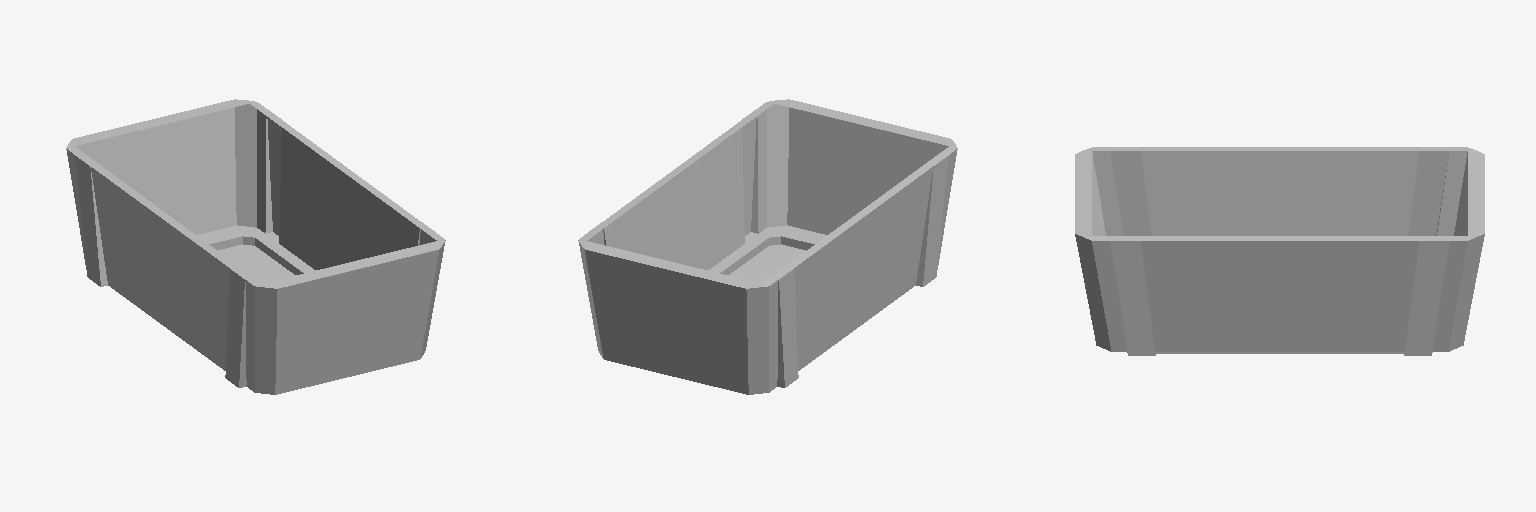
File: powerCellContainer_body.obj
3 renders of one model, left to right at view 1: azimuth 30°, elevation 25°; view 2: azimuth 150°, elevation 25°; view 3: azimuth 270°, elevation 25°, orthographic.
Parts seen in each view (by area): view 1: polySurface3 powerCellContainer; view 2: polySurface3 powerCellContainer; view 3: polySurface3 powerCellContainer.
Boxes of the visible parts, x1=… form: polySurface3 powerCellContainer: x1=66, y1=99, x2=445, y2=394; polySurface3 powerCellContainer: x1=578, y1=99, x2=957, y2=394; polySurface3 powerCellContainer: x1=1075, y1=147, x2=1484, y2=355.
Size of the model in its own units: 1.43 by 0.8868 by 2.64.